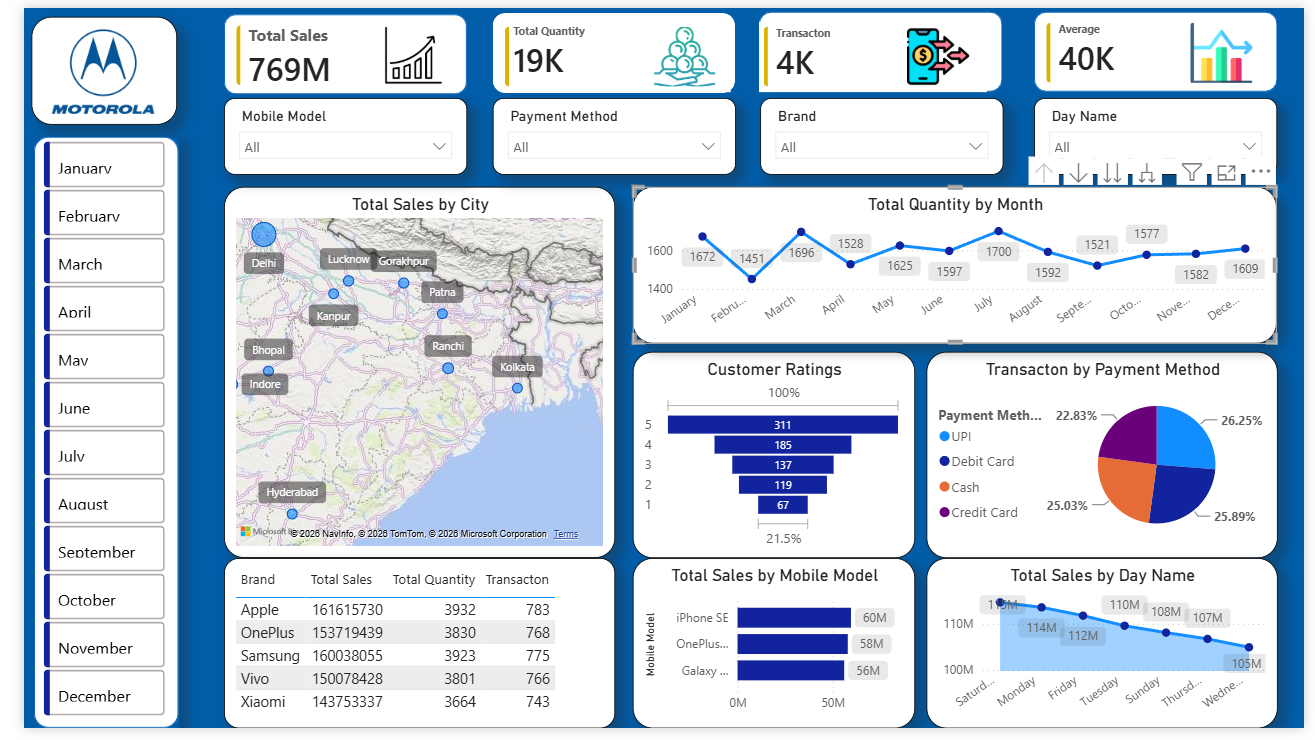

What the dashboard file says about the page in this screenshot:
{"tool":"powerbi","page":{"name":"Mobile Sales Data Dashboard","canvas":[1280,720],"ordinal":0},"visuals":[{"type":"shape","box":[200,6.1,242.9,80],"z":0},{"type":"shape","box":[7.8,8.9,145.6,107.8],"z":1000},{"type":"image","box":[6.7,12.2,145.6,102.2],"z":2000},{"type":"shape","box":[10,128.9,144.4,591.1],"z":3000},{"type":"advancedSlicerVisual","fields":{"Values":["Sales_Data.Date.Variation.Date Hierarchy.Month"]},"box":[14.4,128.9,131.1,591.1],"z":4000},{"type":"shape","box":[1010,3.3,243.3,80],"z":5000},{"type":"shape","box":[735.6,3.3,243.3,80],"z":6000},{"type":"shape","box":[468.9,5.6,242.2,80],"z":7000},{"type":"cardVisual","fields":{"Data":["Sales_Data.Total Quantity"]},"box":[476.7,13.3,230,70],"z":8000},{"type":"cardVisual","fields":{"Data":["Sales_Data.Transacton"]},"box":[735.6,13.3,227.8,70],"z":9000},{"type":"cardVisual","fields":{"Data":["Sales_Data.Average"]},"box":[1017.8,10,228.9,70],"z":10000},{"type":"map","fields":{"Category":["Sales_Data.City"],"Size":["Sales_Data.Total Sales"]},"box":[200,178.6,391.4,371.4],"z":11000},{"type":"cardVisual","fields":{"Data":["Sales_Data.Total Sales"]},"box":[207.1,12.9,228.6,70],"z":12000},{"type":"lineChart","fields":{"Category":["Sales_Data.Date.Variation.Date Hierarchy.Month","Sales_Data.Date.Variation.Date Hierarchy.Day"],"Y":["Sales_Data.Total Quantity"]},"box":[608.6,178.6,644.3,157.1],"z":13000},{"type":"barChart","fields":{"Category":["Sales_Data.Mobile Model"],"Y":["Sales_Data.Total Sales"]},"box":[608.9,550,282.2,170],"z":14000},{"type":"pieChart","fields":{"Category":["Sales_Data.Payment Method"],"Y":["Sales_Data.Transacton"]},"box":[902.2,343.3,351.1,206.7],"z":15000},{"type":"funnel","title":" Customer Ratings ","fields":{"Category":["Sales_Data.Customer Ratings"],"Y":["CountNonNull(Sales_Data.Customer Ratings)"]},"box":[608.9,343.3,282.2,206.7],"z":16000},{"type":"areaChart","fields":{"Category":["Sales_Data.Day Name"],"Y":["Sales_Data.Total Sales"]},"box":[902.2,550,351.1,170],"z":17000},{"type":"tableEx","fields":{"Values":["Sales_Data.Brand","Sales_Data.Total Sales","Sales_Data.Total Quantity","Sales_Data.Transacton"]},"box":[200,550,391.4,170],"z":18000},{"type":"slicer","fields":{"Values":["Sales_Data.Mobile Model"]},"box":[200,90,242.9,77.1],"z":19000},{"type":"slicer","fields":{"Values":["Sales_Data.Payment Method"]},"box":[468.6,90,242.9,77.1],"z":20000},{"type":"slicer","fields":{"Values":["Sales_Data.Brand"]},"box":[735.7,90,242.9,77.1],"z":21000},{"type":"slicer","fields":{"Values":["Sales_Data.Day Name"]},"box":[1010,90,242.9,77.1],"z":22000}]}

Visuals, with their boxes in screenshot pixels (x1, y1, x2, y2), scaled from the page's 1280x720 canvas onto the 1315x740 screenshot:
shape: (205,6,455,88)
shape: (8,9,158,120)
image: (7,13,156,118)
shape: (10,132,159,739)
advancedSlicerVisual - Sales_Data.Date.Variation.Date Hierarchy.Month: (15,132,149,739)
shape: (1038,3,1288,86)
shape: (756,3,1006,86)
shape: (482,6,731,88)
cardVisual - Sales_Data.Total Quantity: (490,14,726,86)
cardVisual - Sales_Data.Transacton: (756,14,990,86)
cardVisual - Sales_Data.Average: (1046,10,1281,82)
map - Sales_Data.City x Sales_Data.Total Sales: (205,184,608,565)
cardVisual - Sales_Data.Total Sales: (213,13,448,85)
lineChart - Sales_Data.Date.Variation.Date Hierarchy.Month x Sales_Data.Date.Variation.Date Hierarchy.Day: (625,184,1287,345)
barChart - Sales_Data.Mobile Model x Sales_Data.Total Sales: (626,565,915,739)
pieChart - Sales_Data.Payment Method x Sales_Data.Transacton: (927,353,1288,565)
" Customer Ratings " funnel: (626,353,915,565)
areaChart - Sales_Data.Day Name x Sales_Data.Total Sales: (927,565,1288,739)
tableEx - Sales_Data.Brand x Sales_Data.Total Sales: (205,565,608,739)
slicer - Sales_Data.Mobile Model: (205,92,455,172)
slicer - Sales_Data.Payment Method: (481,92,731,172)
slicer - Sales_Data.Brand: (756,92,1005,172)
slicer - Sales_Data.Day Name: (1038,92,1287,172)
